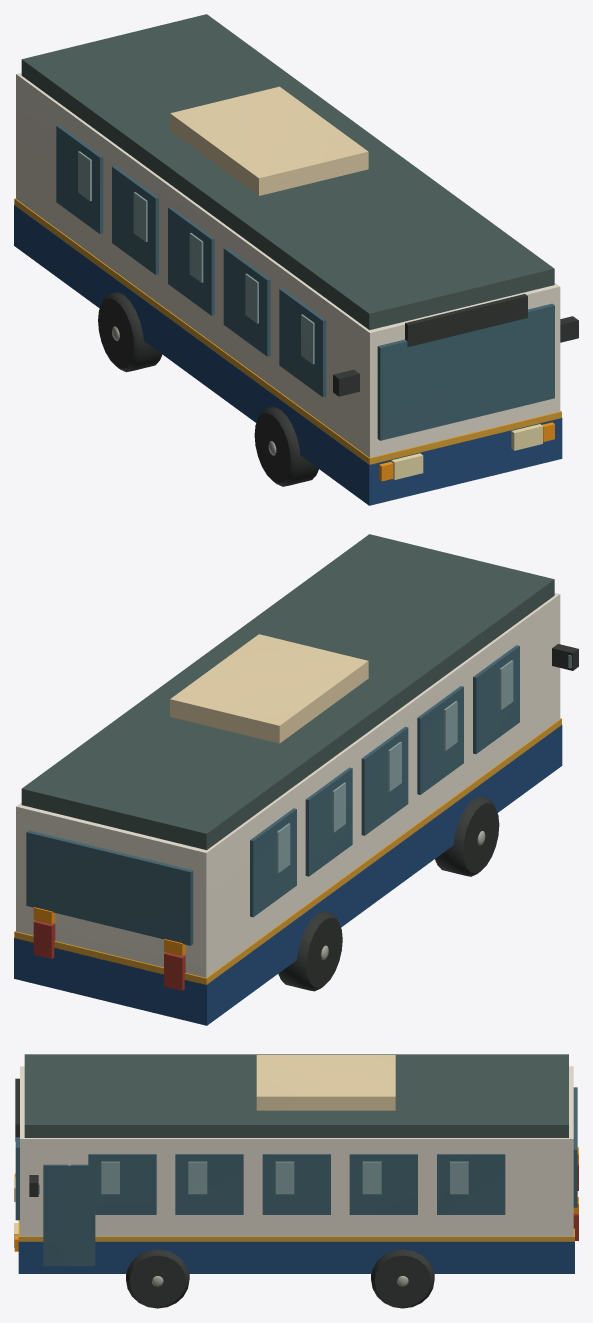
The model's file is bus.glb.
3 views of the same model, one above another, from view 1: azimuth 30°, elevation 25°; view 2: azimuth 150°, elevation 25°; view 3: azimuth 270°, elevation 25° (orthographic). The views are drawn at different scales.
Visible parts, largest first — view 1: Metro transit bus · Trolley roof, Metro transit bus · Car glass, Metro transit bus · Bus cream, Metro transit bus · Bus blue, Metro transit bus · Cream, Metro transit bus · Tire, Metro transit bus · Bus gold, Metro transit bus · Car glint, Metro transit bus · Headlight; view 2: Metro transit bus · Trolley roof, Metro transit bus · Bus cream, Metro transit bus · Car glass, Metro transit bus · Bus blue, Metro transit bus · Cream, Metro transit bus · Tire, Metro transit bus · Bus gold, Metro transit bus · Car glint, Metro transit bus · Brake; view 3: Metro transit bus · Trolley roof, Metro transit bus · Bus cream, Metro transit bus · Car glass, Metro transit bus · Bus blue, Metro transit bus · Cream, Metro transit bus · Tire, Metro transit bus · Car glint, Metro transit bus · Bus gold.
Boxes of the visible parts, bbox=[...] form: Metro transit bus · Trolley roof: bbox=[21, 14, 554, 329]; Metro transit bus · Car glass: bbox=[56, 125, 554, 440]; Metro transit bus · Bus cream: bbox=[16, 73, 560, 457]; Metro transit bus · Bus blue: bbox=[14, 205, 562, 505]; Metro transit bus · Cream: bbox=[170, 86, 368, 195]; Metro transit bus · Tire: bbox=[98, 292, 578, 486]; Metro transit bus · Bus gold: bbox=[14, 198, 561, 464]; Metro transit bus · Car glint: bbox=[78, 151, 314, 364]; Metro transit bus · Headlight: bbox=[391, 424, 542, 479]; Metro transit bus · Trolley roof: bbox=[21, 534, 554, 850]; Metro transit bus · Bus cream: bbox=[16, 593, 560, 977]; Metro transit bus · Car glass: bbox=[26, 645, 519, 945]; Metro transit bus · Bus blue: bbox=[14, 725, 562, 1025]; Metro transit bus · Cream: bbox=[170, 634, 368, 743]; Metro transit bus · Tire: bbox=[278, 644, 578, 991]; Metro transit bus · Bus gold: bbox=[14, 718, 561, 984]; Metro transit bus · Car glint: bbox=[276, 655, 571, 873]; Metro transit bus · Brake: bbox=[33, 920, 185, 990]; Metro transit bus · Trolley roof: bbox=[24, 1054, 568, 1137]; Metro transit bus · Bus cream: bbox=[20, 1066, 573, 1236]; Metro transit bus · Car glass: bbox=[15, 1087, 577, 1266]; Metro transit bus · Bus blue: bbox=[18, 1241, 574, 1273]; Metro transit bus · Cream: bbox=[256, 1055, 395, 1110]; Metro transit bus · Tire: bbox=[15, 1078, 434, 1308]; Metro transit bus · Car glint: bbox=[38, 1161, 468, 1194]; Metro transit bus · Bus gold: bbox=[18, 1220, 574, 1241].
Bounding box in the file's own units: 1.84 × 1.82 × 4.79.
